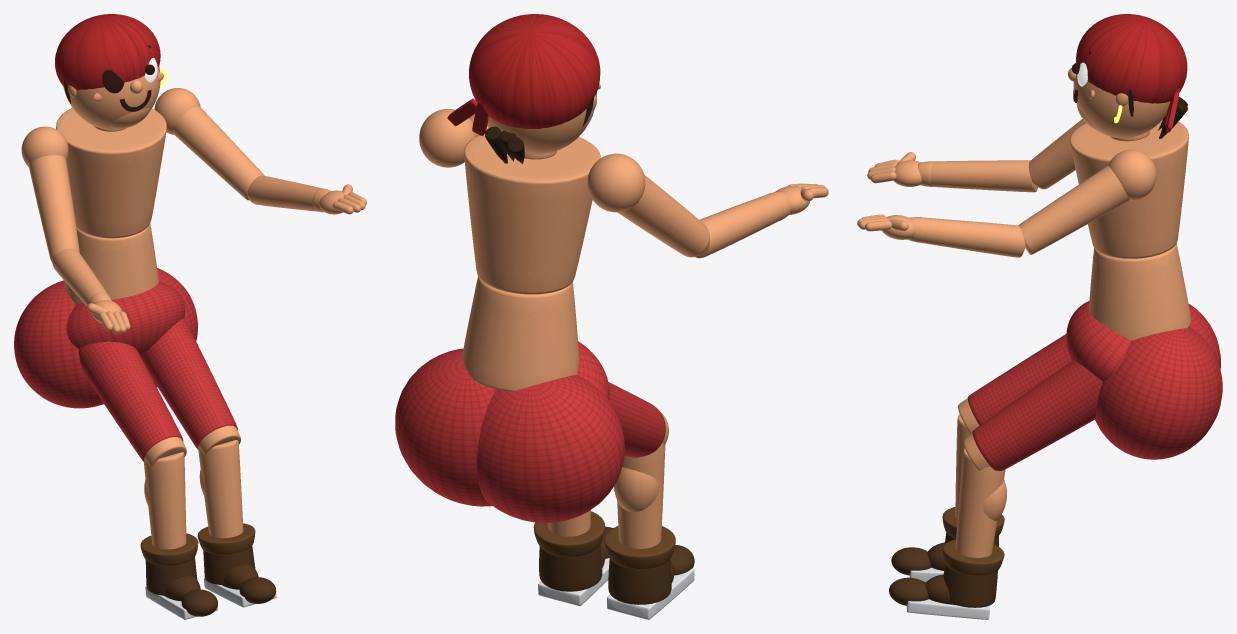
The model's file is character-pirate.glb.
3 views of the same model, side by side, from view 1: azimuth 30°, elevation 25°; view 2: azimuth 150°, elevation 25°; view 3: azimuth 270°, elevation 25° (orthographic). The views are drawn at different scales.
Parts seen in each view (by area): view 1: spine, head, kneeL, kneeR, thighR, cheekR, thighL, pelvis, shoulderL, shoulderR, elbowL, elbowR (+1 smaller); view 2: spine, cheekR, head, cheekL, kneeR, kneeL, elbowR, shoulderR, thighR, pelvis; view 3: spine, cheekL, head, kneeL, thighL, elbowR, elbowL, shoulderL, thighR, pelvis, kneeR, shoulderR (+1 smaller).
Boxes of the visible parts, bbox=[...] form: spine: bbox=[21, 88, 200, 304]; head: bbox=[55, 14, 166, 130]; kneeL: bbox=[197, 440, 276, 607]; kneeR: bbox=[140, 452, 217, 619]; thighR: bbox=[78, 341, 186, 467]; cheekR: bbox=[14, 280, 103, 408]; thighL: bbox=[141, 318, 240, 455]; pelvis: bbox=[66, 281, 185, 356]; shoulderL: bbox=[173, 106, 264, 200]; shoulderR: bbox=[29, 155, 79, 262]; elbowL: bbox=[247, 175, 366, 214]; elbowR: bbox=[52, 248, 130, 333]; spine: bbox=[419, 109, 645, 391]; cheekR: bbox=[477, 375, 624, 522]; head: bbox=[447, 14, 600, 163]; cheekL: bbox=[395, 348, 495, 506]; kneeR: bbox=[604, 443, 694, 619]; kneeL: bbox=[533, 510, 612, 606]; elbowR: bbox=[695, 183, 828, 258]; shoulderR: bbox=[617, 175, 709, 257]; thighR: bbox=[608, 382, 668, 457]; pelvis: bbox=[577, 341, 609, 399]; spine: bbox=[1070, 119, 1191, 340]; cheekL: bbox=[1095, 327, 1222, 459]; head: bbox=[1068, 14, 1187, 138]; kneeL: bbox=[889, 448, 1006, 619]; thighL: bbox=[963, 360, 1102, 470]; elbowR: bbox=[867, 152, 1037, 192]; elbowL: bbox=[857, 214, 1025, 257]; shoulderL: bbox=[1018, 165, 1129, 254]; thighR: bbox=[958, 334, 1071, 433]; pelvis: bbox=[1066, 301, 1130, 381]; kneeR: bbox=[891, 414, 1004, 582]; shoulderR: bbox=[1028, 119, 1085, 189].
Size of the model in its own units: 2.02 by 3.9 by 2.28.
12 materials, 10 textured.
